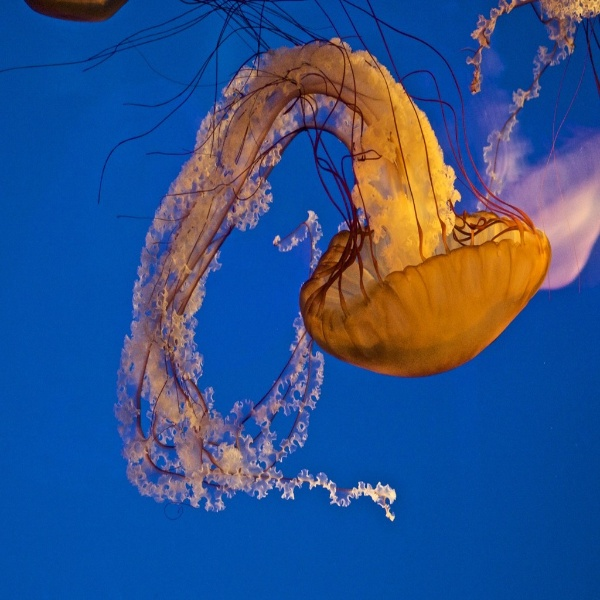Jellyfish: (324, 0, 599, 297)
